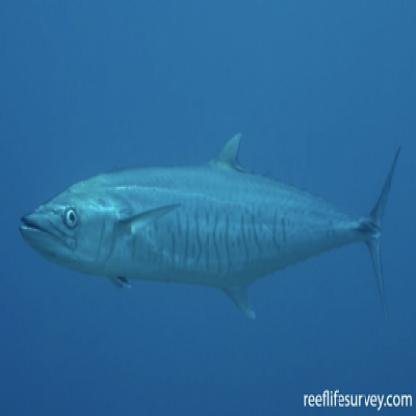tuna: (16, 123, 406, 325)
